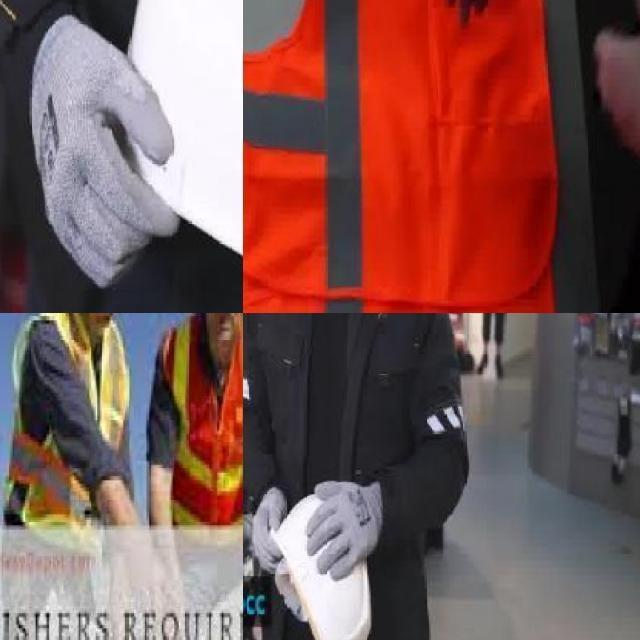apron: (29, 9, 180, 298), (304, 478, 386, 583), (252, 487, 285, 573)
